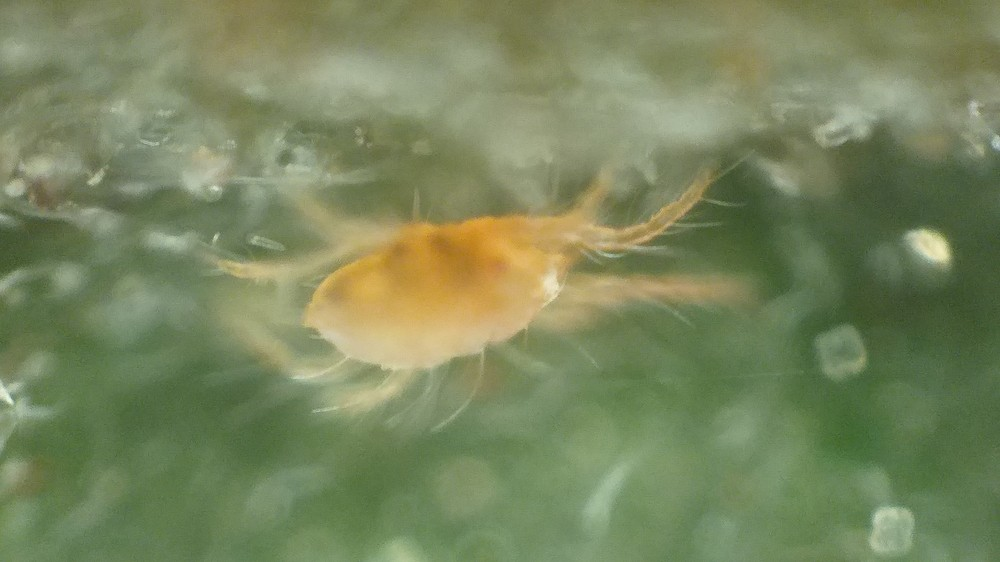Aracnido Rojo: (195, 145, 783, 437)
